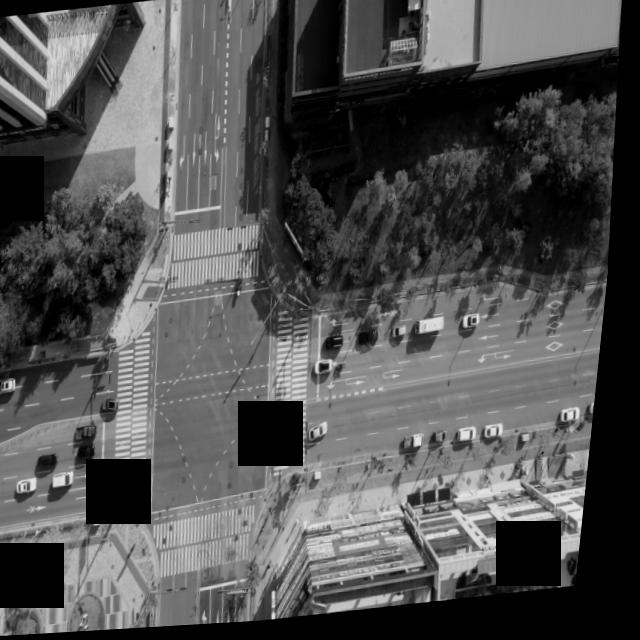car: (60, 470, 84, 487), (315, 425, 336, 444), (566, 412, 588, 429), (491, 427, 513, 444), (465, 430, 485, 447), (45, 454, 66, 470), (27, 476, 48, 492), (365, 333, 386, 349), (320, 363, 340, 379), (2, 376, 23, 391), (82, 446, 103, 460), (467, 318, 485, 334), (108, 397, 126, 412), (396, 327, 413, 341), (437, 434, 455, 447), (335, 339, 349, 351), (596, 408, 604, 423)
small_bus: (422, 320, 453, 338)
small_truck: (410, 436, 434, 454), (83, 425, 106, 440)
